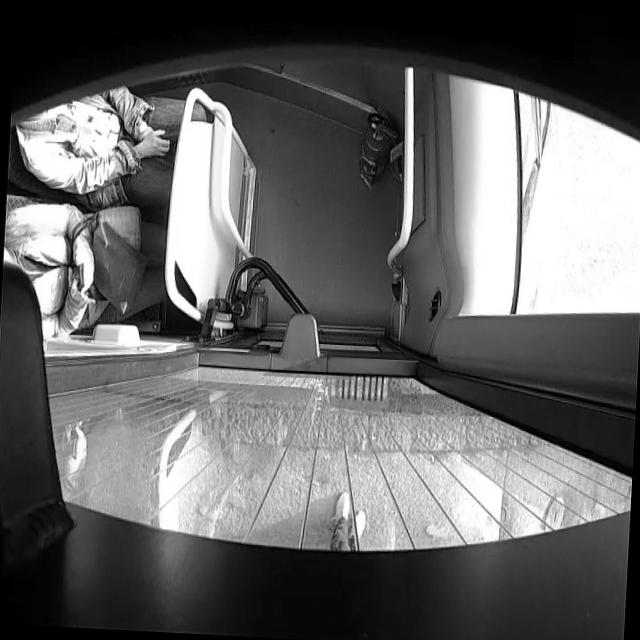bus-door: (0, 265, 635, 640)
